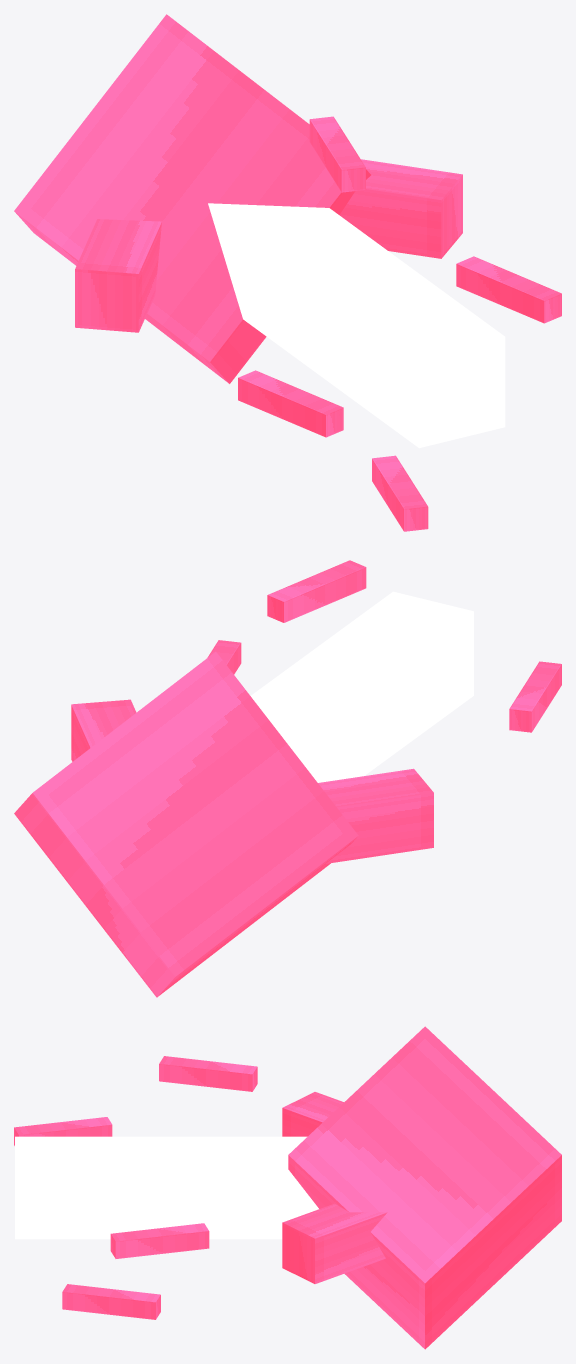
Rendered from throne_shot_red.gltf.
3 views of the same model, one above another, from view 1: azimuth 30°, elevation 25°; view 2: azimuth 150°, elevation 25°; view 3: azimuth 270°, elevation 25° (orthographic). The views are drawn at different scales.
Parts seen in each view (by area): view 1: core_mesh; view 2: core_mesh; view 3: core_mesh.
Boxes of the visible parts, left/top/right/bottom form: core_mesh: left=14, top=14, right=561, bottom=531; core_mesh: left=14, top=560, right=561, bottom=997; core_mesh: left=14, top=1026, right=561, bottom=1349.
Size of the model in its own units: 0.674 by 0.6402 by 1.06.
Materials: 1 (1 with a texture image).
